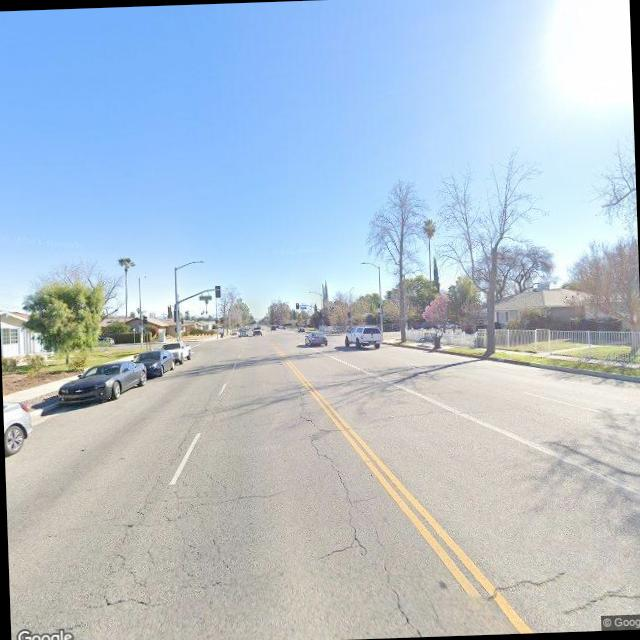crack: (86, 445, 270, 617), (300, 400, 369, 558), (378, 556, 419, 635), (340, 404, 452, 431), (553, 588, 640, 618), (478, 570, 563, 598)
